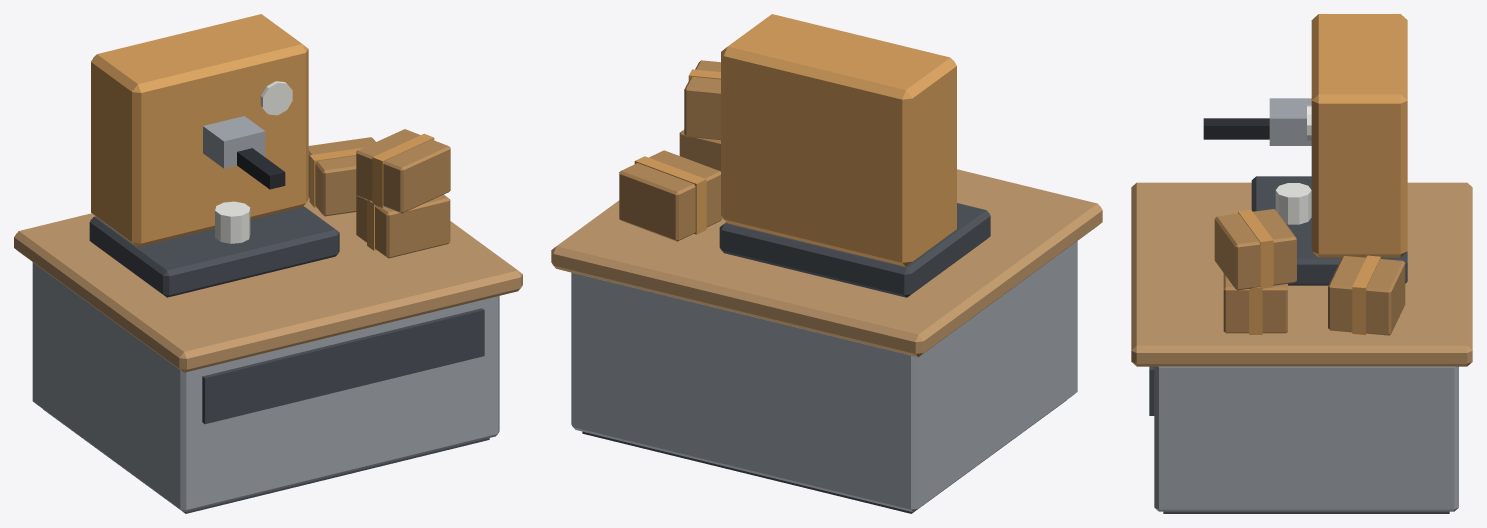
Rendered from coffee_p0_4.glb.
3 renders of one model, left to right at view 1: azimuth 30°, elevation 25°; view 2: azimuth 150°, elevation 25°; view 3: azimuth 270°, elevation 25°, orthographic. The views are drawn at different scales.
Visible parts, largest first — view 1: coffee_p0_4_mesh_Desk, coffee_p0_4_mesh; view 2: coffee_p0_4_mesh_Desk, coffee_p0_4_mesh; view 3: coffee_p0_4_mesh_Desk, coffee_p0_4_mesh.
Part boxes in pixels (bbox=[...]): coffee_p0_4_mesh_Desk: bbox=[14, 197, 522, 513]; coffee_p0_4_mesh: bbox=[89, 14, 450, 297]; coffee_p0_4_mesh_Desk: bbox=[551, 169, 1102, 513]; coffee_p0_4_mesh: bbox=[619, 14, 990, 297]; coffee_p0_4_mesh_Desk: bbox=[1131, 182, 1472, 513]; coffee_p0_4_mesh: bbox=[1203, 14, 1407, 335].
Bounding box in the file's own units: 0.86 × 0.875 × 0.74.
